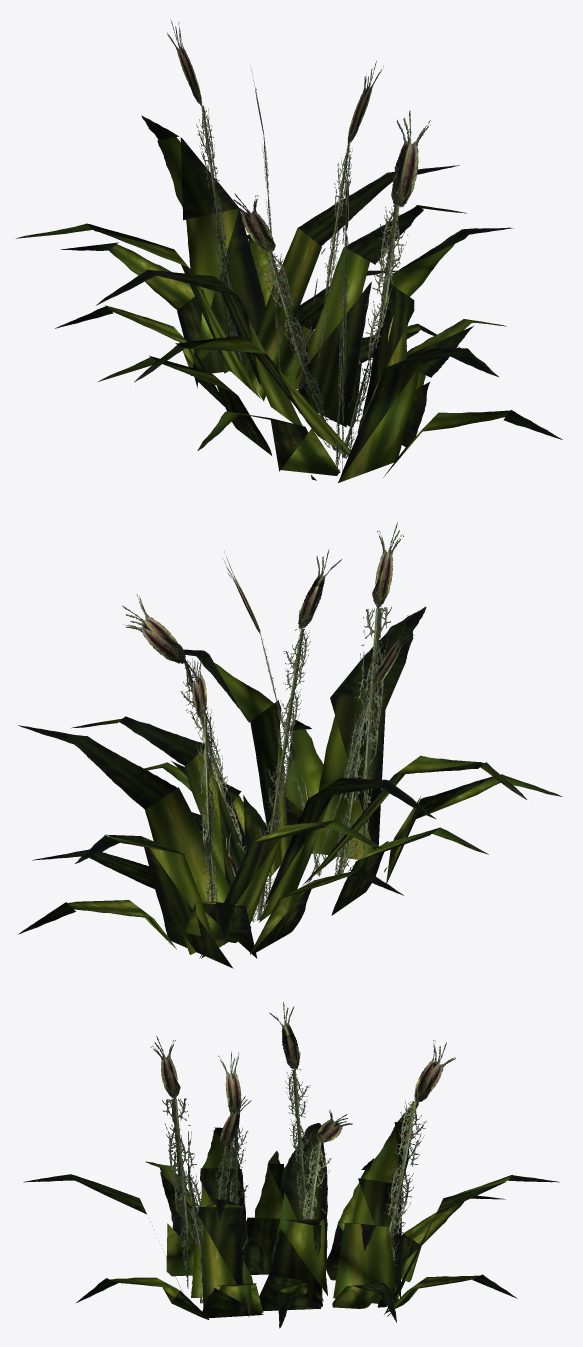
The model's file is OW_LOB_BUSH_REED_V1.glb.
3 renders of one model, top to bottom at view 1: azimuth 30°, elevation 25°; view 2: azimuth 150°, elevation 25°; view 3: azimuth 270°, elevation 25°, orthographic. The views are drawn at different scales.
Visible parts, largest first — view 1: Mesh; view 2: Mesh; view 3: Mesh.
Boxes of the visible parts, bbox=[...] form: Mesh: bbox=[16, 19, 562, 482]; Mesh: bbox=[18, 522, 562, 968]; Mesh: bbox=[23, 1002, 559, 1328].
Bounding box in the file's own units: 5.14 × 4.38 × 7.67.
Materials: 2 (2 with a texture image).
